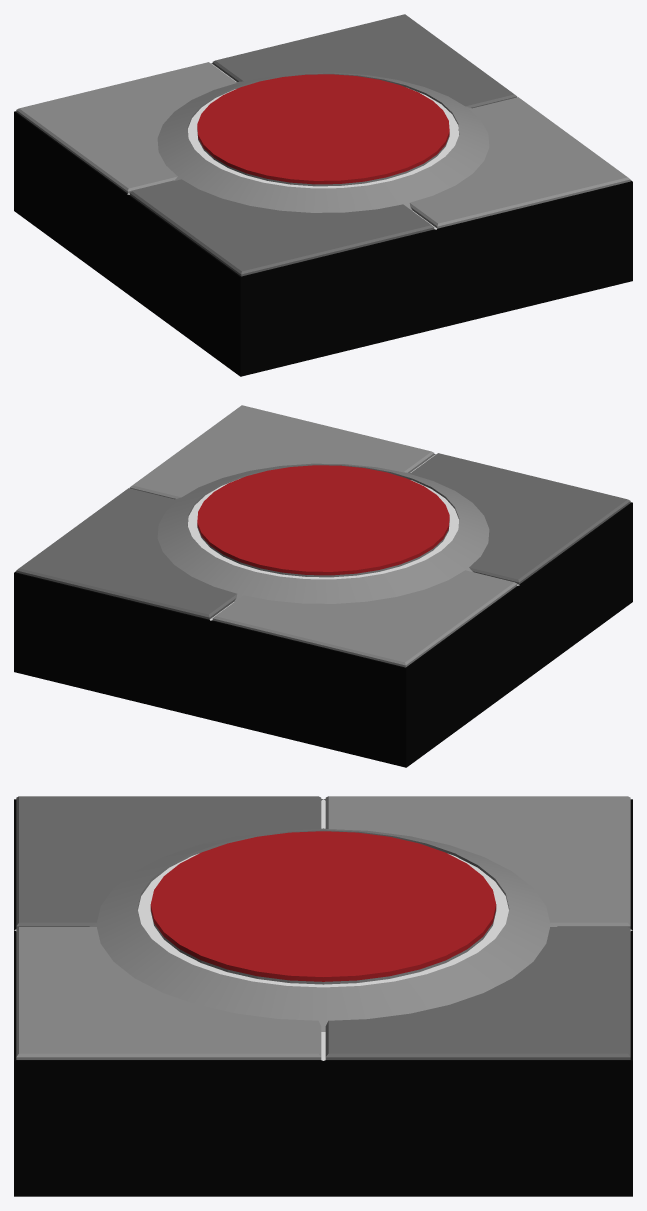
The model's file is Floorbutton.fbx.
The picture shows the model from 3 angles, top to bottom: view 1: azimuth 30°, elevation 25°; view 2: azimuth 150°, elevation 25°; view 3: azimuth 270°, elevation 25°; orthographic projection. The views are drawn at different scales.
Parts seen in each view (by area): view 1: FloorButtonTile, FloorButton, FloorButtonBase; view 2: FloorButtonTile, FloorButton, FloorButtonBase; view 3: FloorButtonTile, FloorButton, FloorButtonBase.
Part boxes in pixels (x1=…): FloorButtonTile: x1=14, y1=14, x2=632, y2=376; FloorButton: x1=197, y1=74, x2=449, y2=184; FloorButtonBase: x1=157, y1=72, x2=489, y2=212; FloorButtonTile: x1=14, y1=405, x2=632, y2=767; FloorButton: x1=197, y1=465, x2=449, y2=575; FloorButtonBase: x1=157, y1=463, x2=489, y2=603; FloorButtonTile: x1=14, y1=796, x2=632, y2=1196; FloorButton: x1=150, y1=831, x2=496, y2=981; FloorButtonBase: x1=89, y1=828, x2=557, y2=1031.
Bounding box in the file's own units: 100 × 28.83 × 100.
